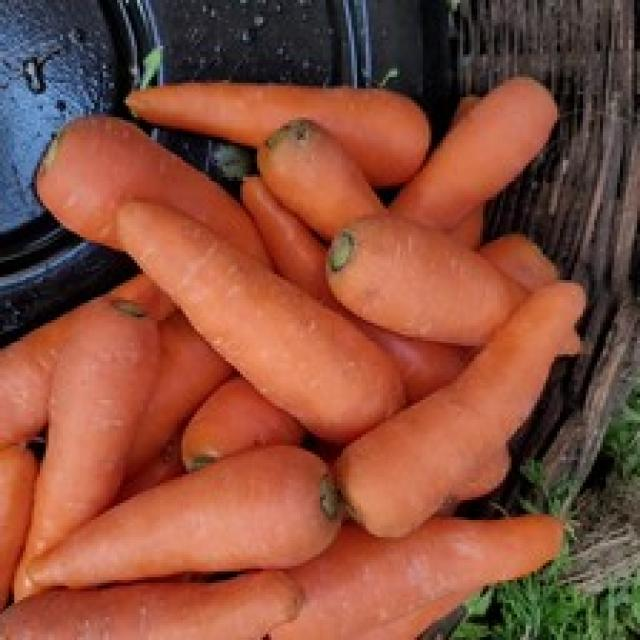Fresh_Carrot: (121, 208, 383, 434), (42, 440, 286, 578)
